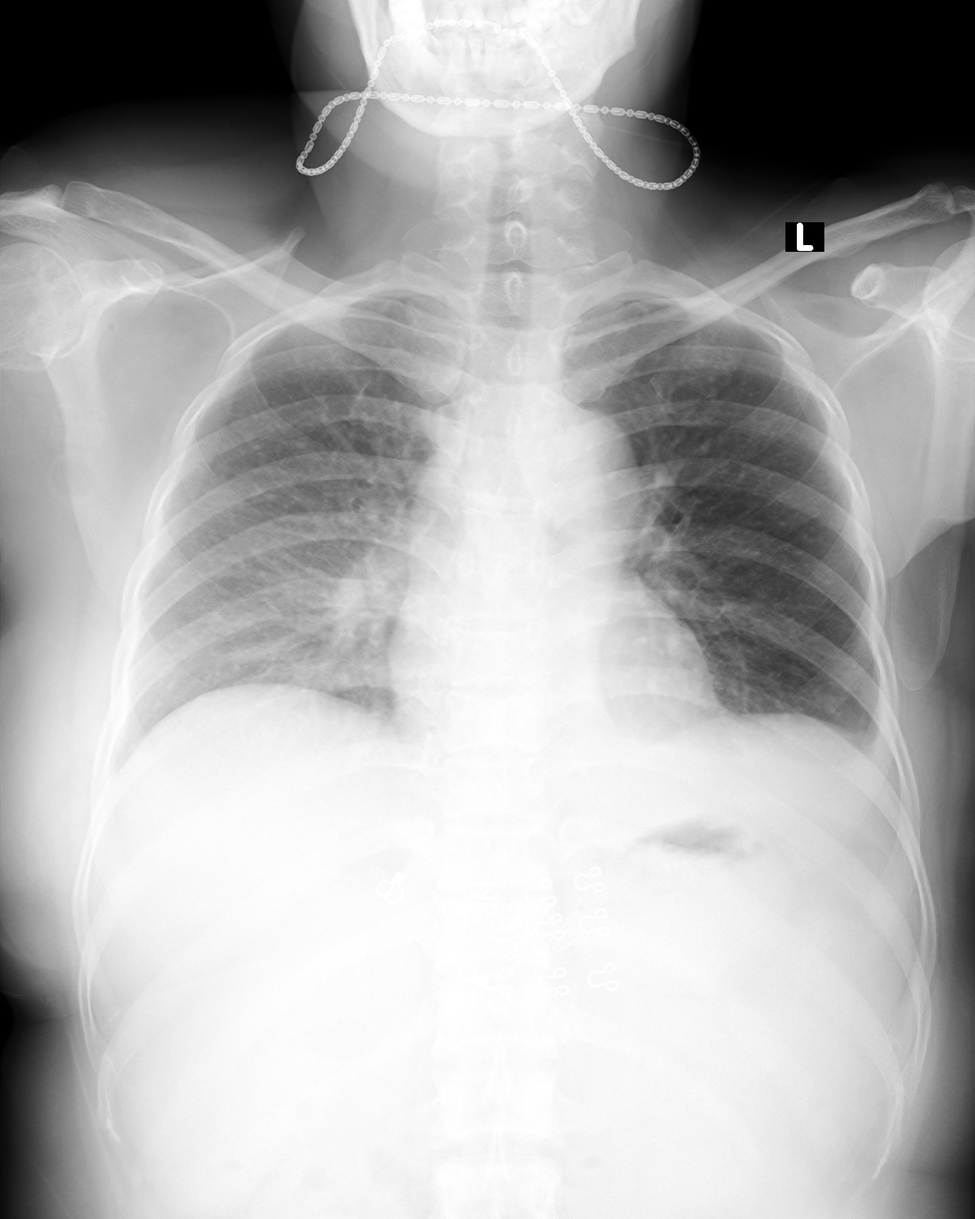Aortic enlargement: (510, 404, 638, 522)
